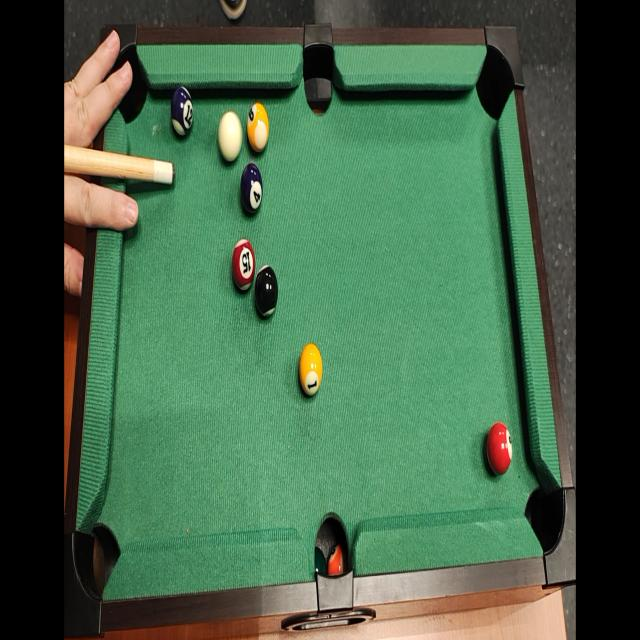cue ball: (216, 112, 244, 164)
other: (250, 259, 280, 322), (230, 236, 257, 297), (486, 417, 513, 478), (238, 160, 265, 220), (298, 341, 324, 399), (170, 80, 195, 140), (246, 100, 270, 155)
